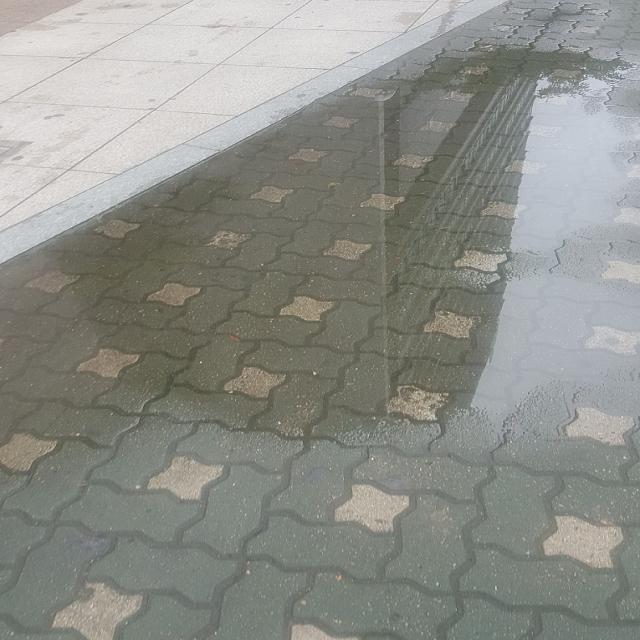puddle: (70, 51, 640, 431)
